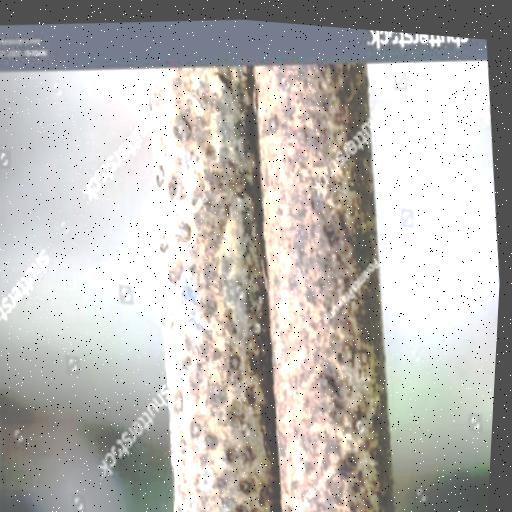corrosion: (125, 41, 418, 512)
